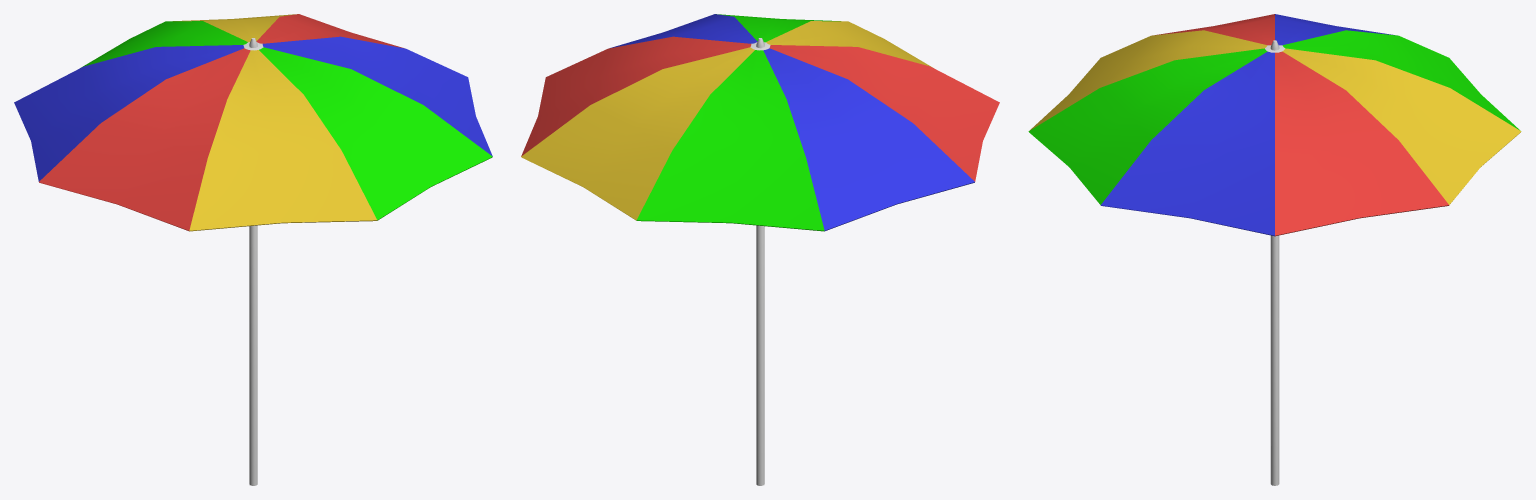
Rendered from beach_umbrella.fbx.
The picture shows the model from 3 angles, left to right: view 1: azimuth 30°, elevation 25°; view 2: azimuth 150°, elevation 25°; view 3: azimuth 270°, elevation 25°; orthographic projection.
Visible parts, largest first — view 1: umbrella, pole; view 2: umbrella, pole; view 3: umbrella, pole.
Boxes of the visible parts, x1,y1,x2,y2 form: umbrella: (14,14,492,231); pole: (249,38,257,485); umbrella: (521,14,999,231); pole: (756,38,764,485); umbrella: (1028,14,1521,236); pole: (1270,40,1279,485).
Size of the model in its own units: 406 by 402 by 406.
